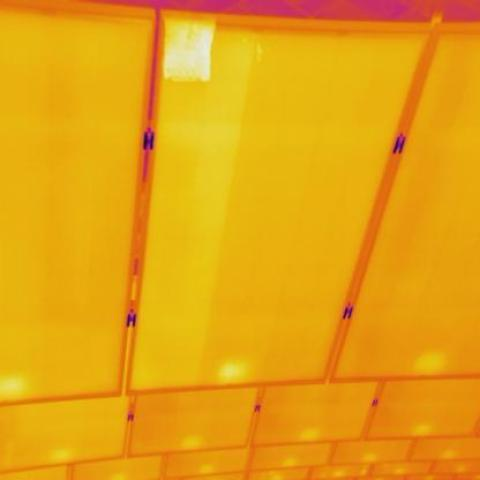fault: (158, 13, 208, 76), (0, 374, 24, 399), (421, 350, 441, 373), (220, 360, 242, 380)
